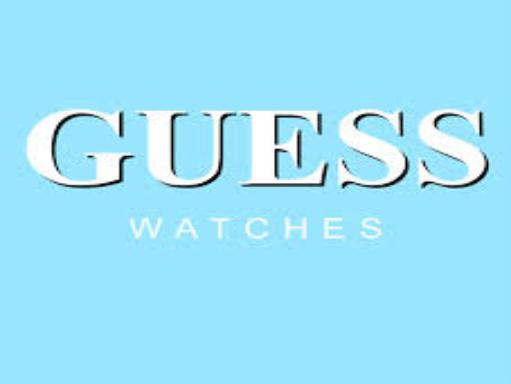GUESS: (15, 102, 492, 193)
